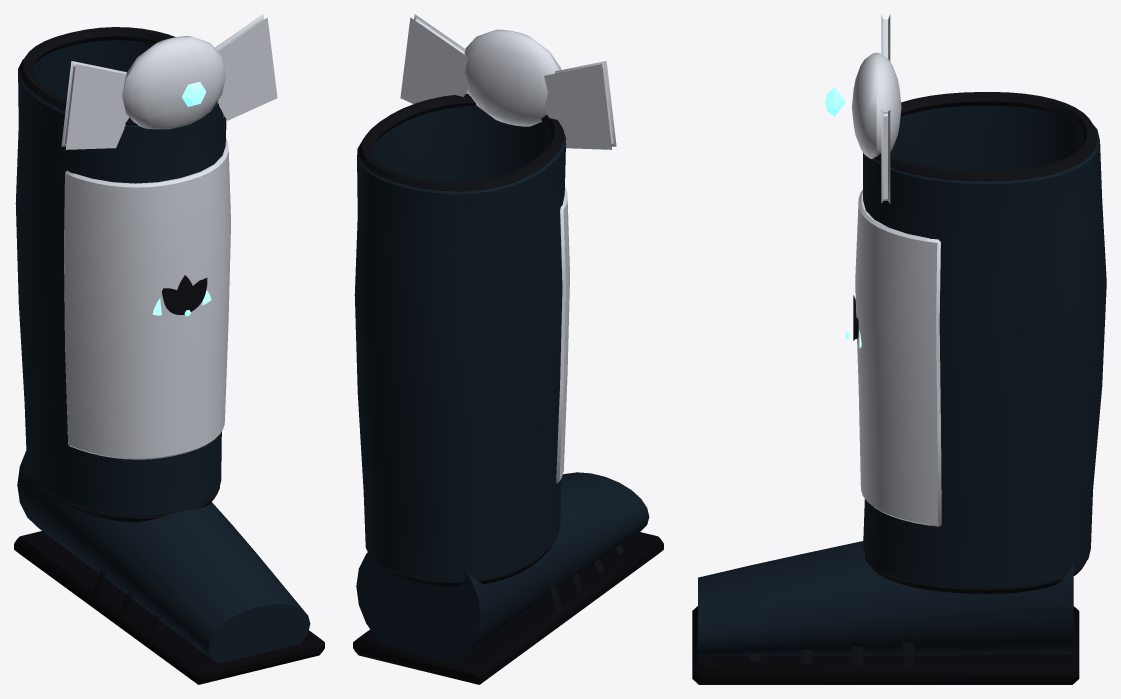
The model's file is esc_horizon_breaker_boots_R.glb.
3 views of the same model, side by side, from view 1: azimuth 30°, elevation 25°; view 2: azimuth 150°, elevation 25°; view 3: azimuth 270°, elevation 25° (orthographic). The views are drawn at different scales.
Parts seen in each view (by area): view 1: esc_horizon_breaker_boots, AT_foot_R; view 2: esc_horizon_breaker_boots, AT_foot_R; view 3: esc_horizon_breaker_boots, AT_foot_R.
Part boxes in pixels (x1,y1,x2,y2): esc_horizon_breaker_boots: (15,14,277,522); AT_foot_R: (14,451,324,684); esc_horizon_breaker_boots: (354,14,616,586); AT_foot_R: (353,472,663,684); esc_horizon_breaker_boots: (825,14,1106,593); AT_foot_R: (692,541,1079,684).
Size of the model in its own units: 0.2244 by 0.5768 by 0.3641.
